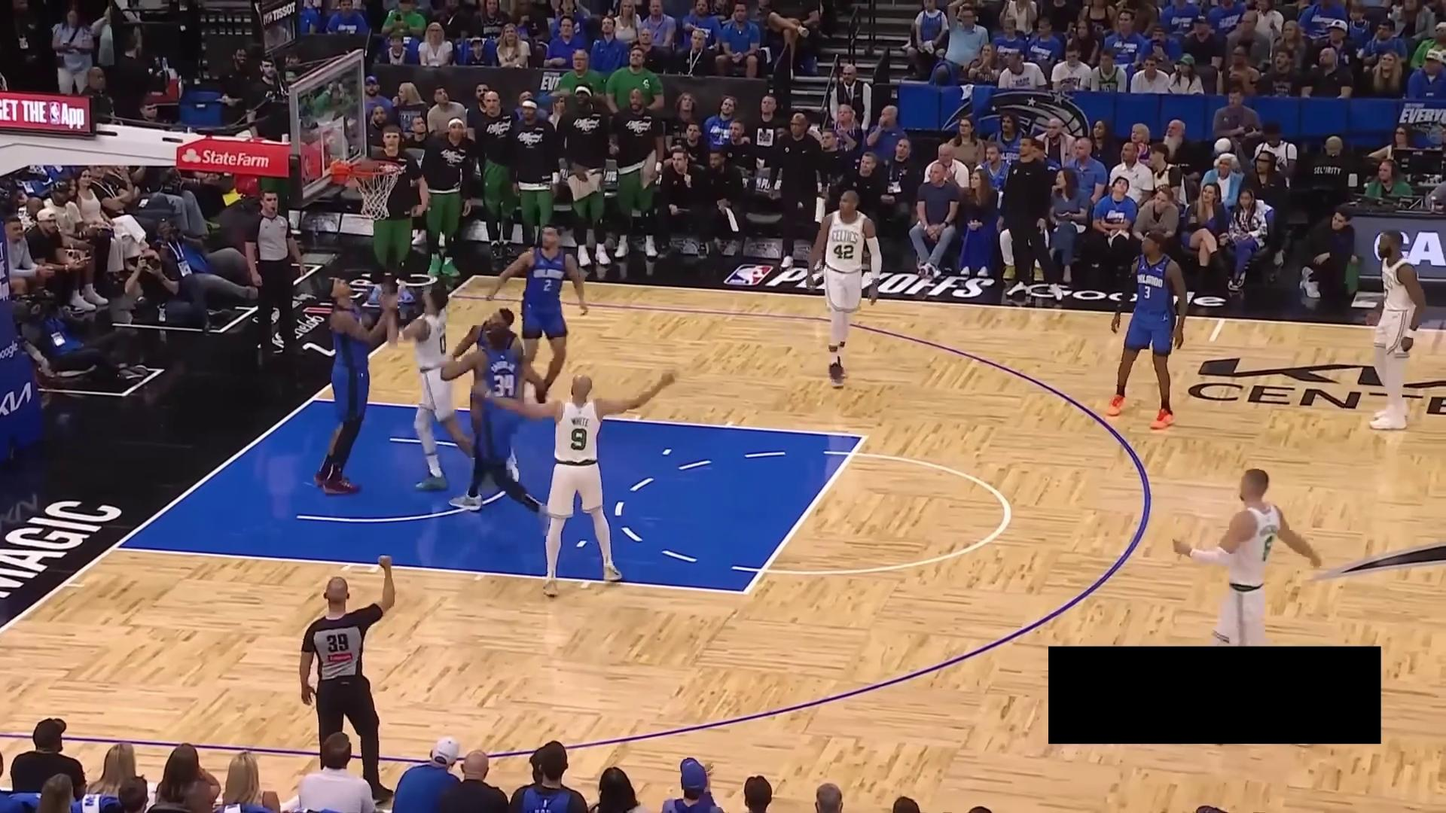ball: (352, 157, 376, 181)
ball-in-basket: (348, 158, 402, 221)
number: (491, 370, 515, 400), (570, 426, 587, 453), (833, 244, 854, 259), (439, 331, 448, 355), (543, 279, 552, 292), (1144, 285, 1151, 299)
player: (473, 367, 677, 598), (1169, 460, 1326, 646), (439, 317, 557, 536), (382, 277, 487, 492), (314, 264, 399, 498), (486, 225, 595, 399), (1104, 226, 1191, 433), (803, 185, 885, 392), (446, 304, 530, 497), (1361, 223, 1427, 434)
referee: (299, 551, 398, 805), (244, 185, 312, 368)
rim: (347, 160, 401, 177)
